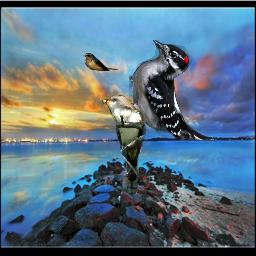Cuckoo: (99, 95, 146, 194)
Swallow: (83, 53, 119, 71)
Woodpecker: (129, 40, 213, 140)
